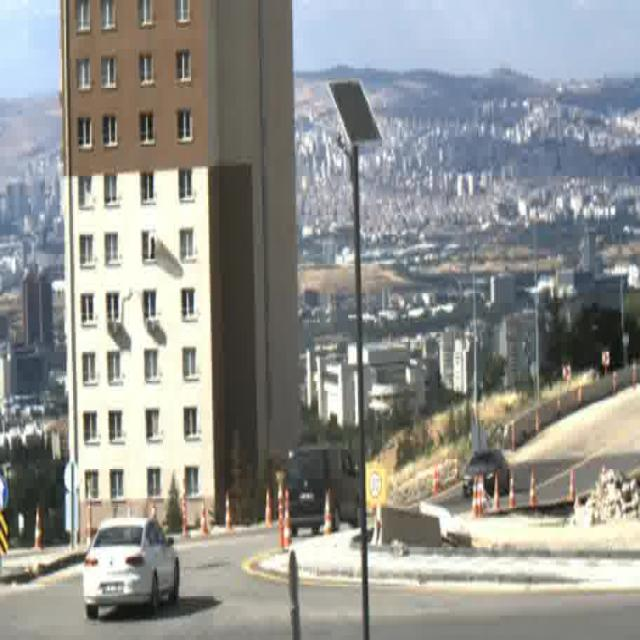Car: (83, 514, 181, 618), (288, 446, 361, 530), (464, 453, 508, 498)
